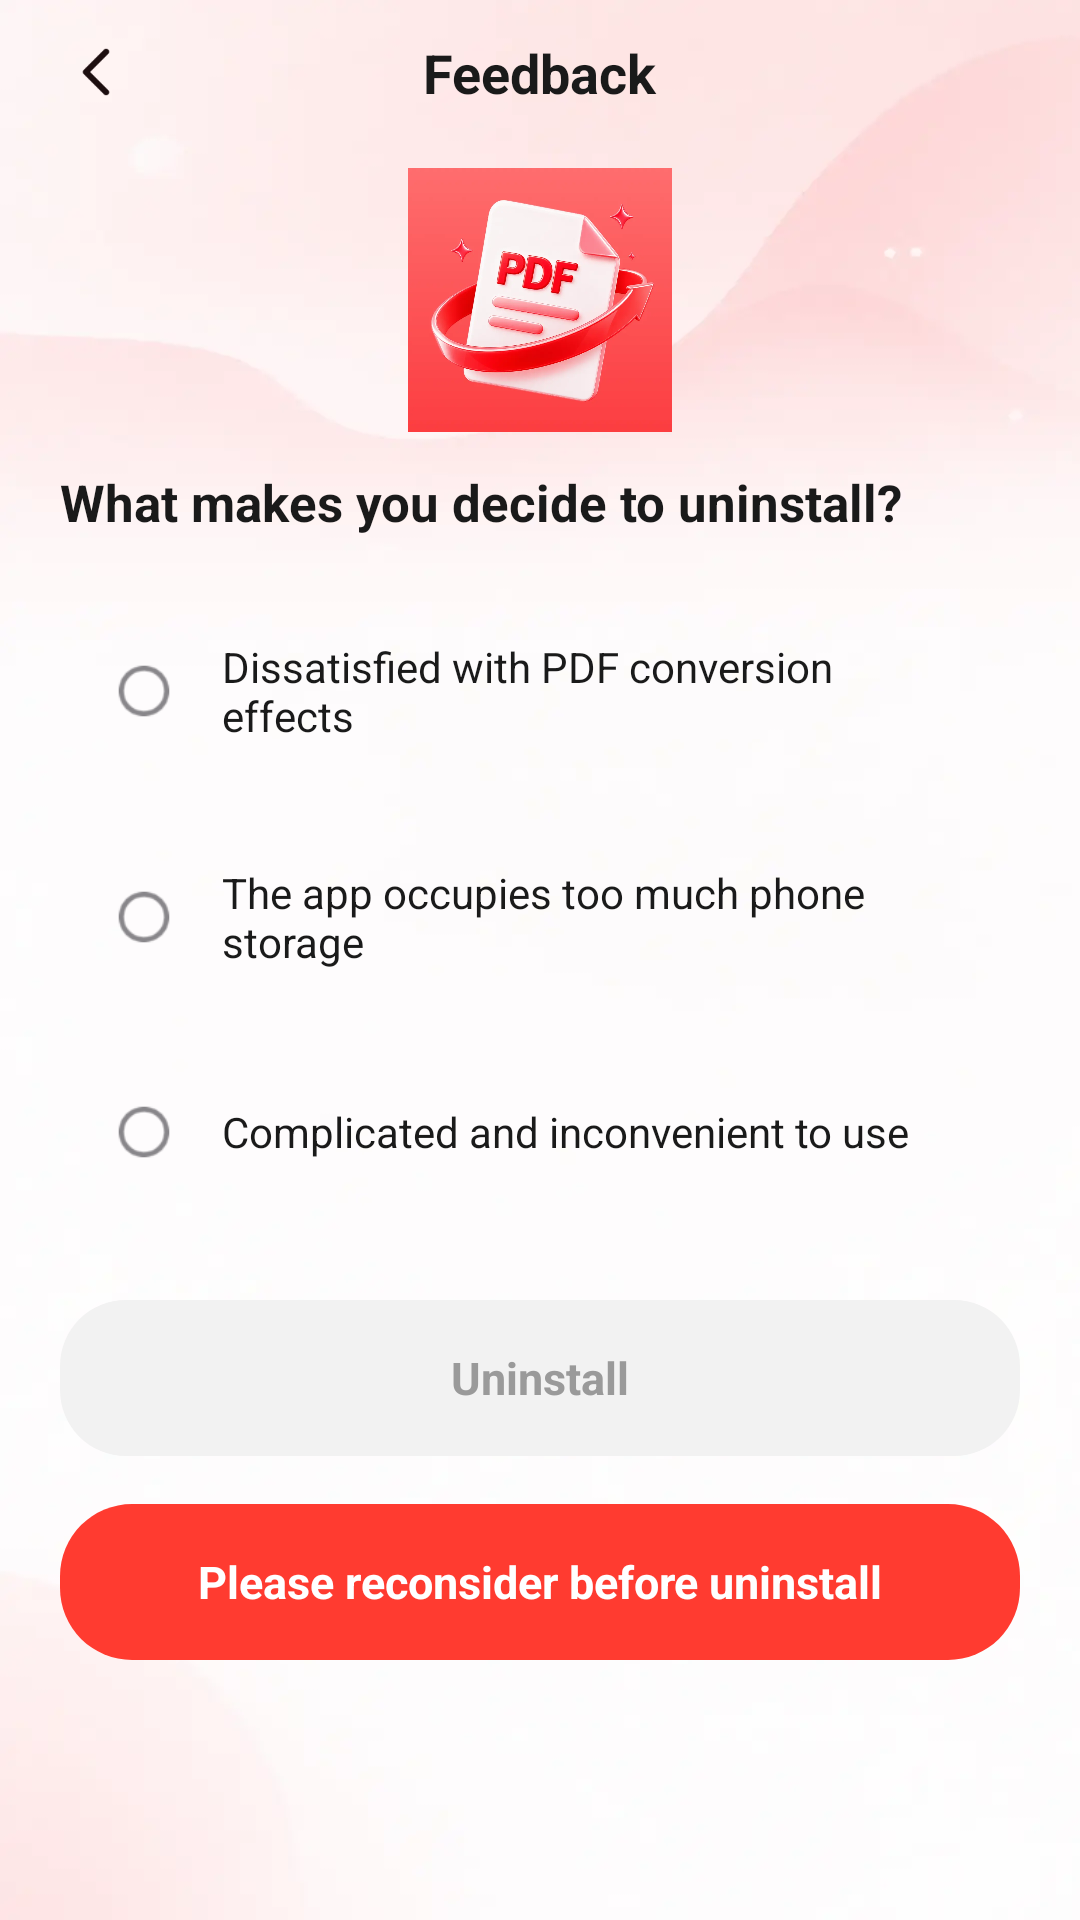

Where to tap for icons on this 1080×1920 app screen, as [x,y]:
Back: [96,72]
